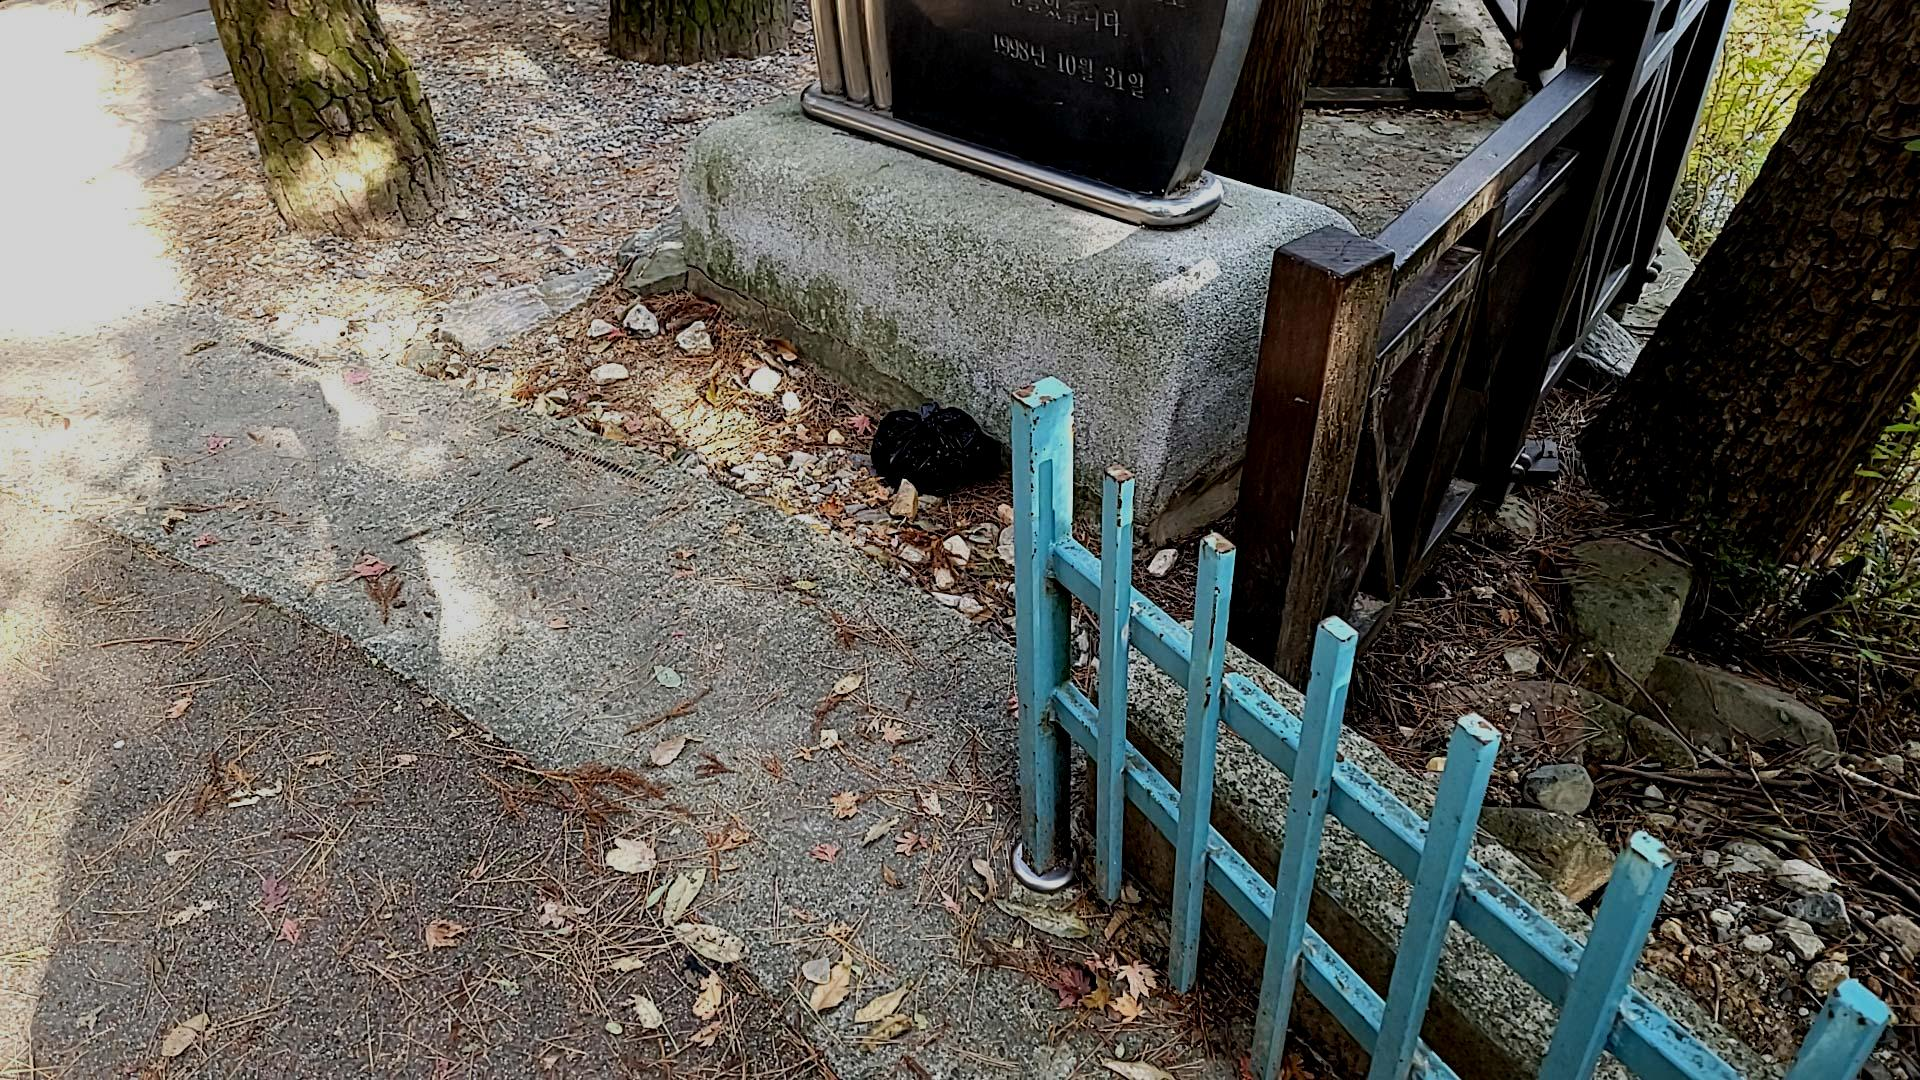black_bag: (862, 396, 1005, 497)
